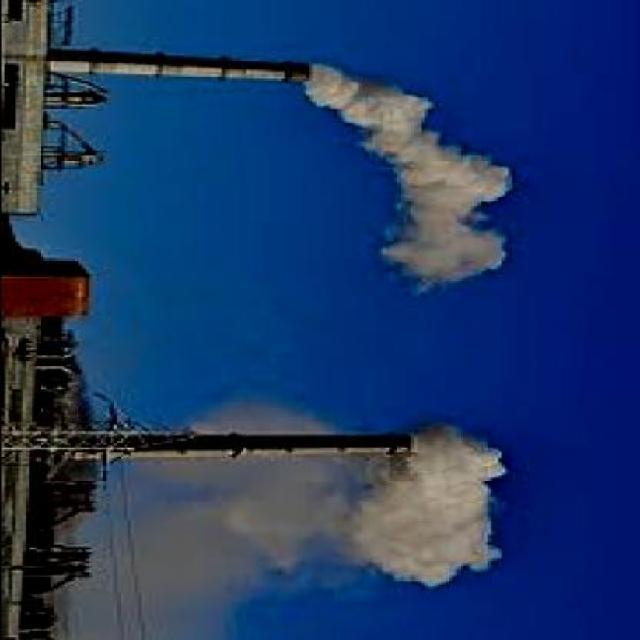Smoke: (300, 66, 514, 295), (328, 414, 526, 594)
